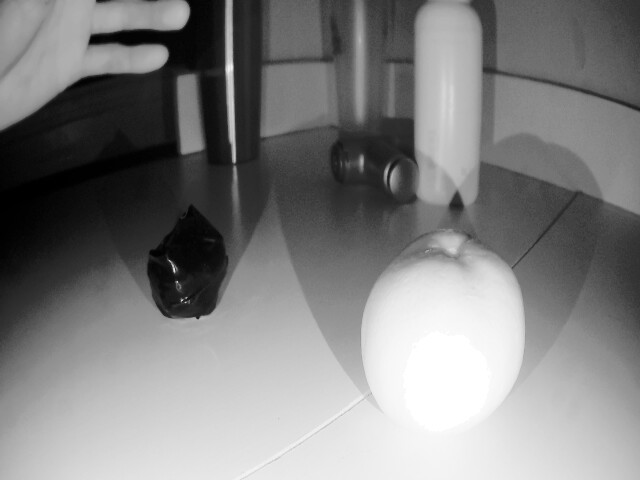black: (151, 217, 247, 318)
